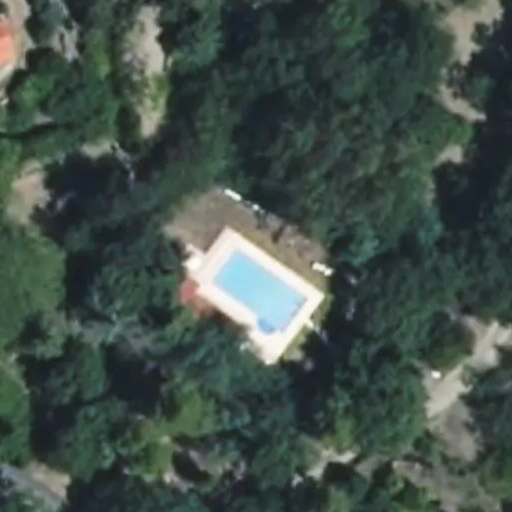pool: (213, 249, 308, 337)
